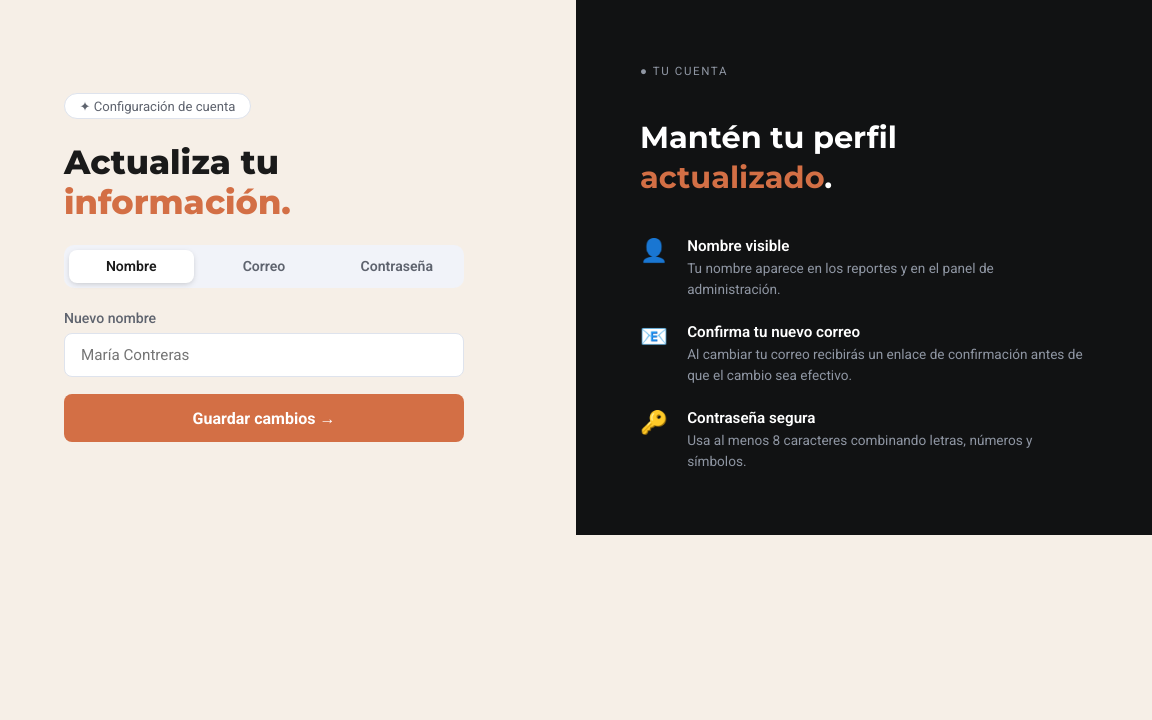
Test: SettingsForm › cambiar a tab password muestra campos de contraseña
Click the button "Contraseña".
click(397, 266)  # box [334,250,459,283]
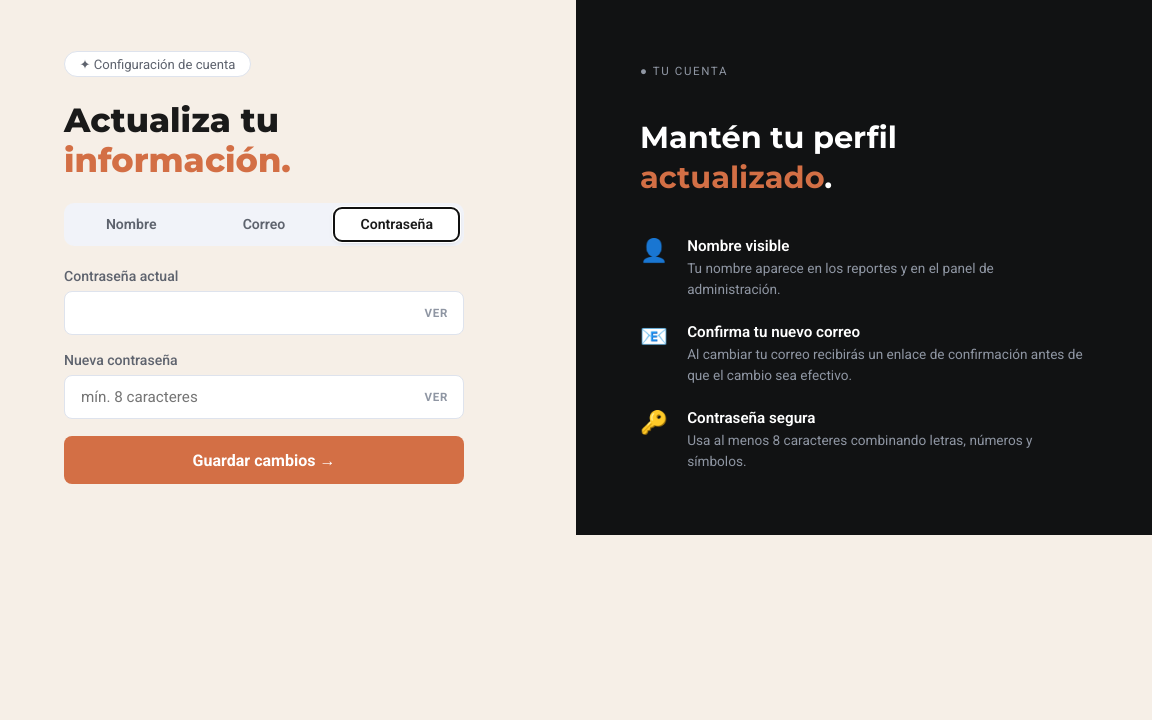
Check: the password field labelled "Contraseña actual" is shown, box [64,291,464,335]
Check: the password field labelled "Nueva contraseña" is shown, box [64,375,464,419]
